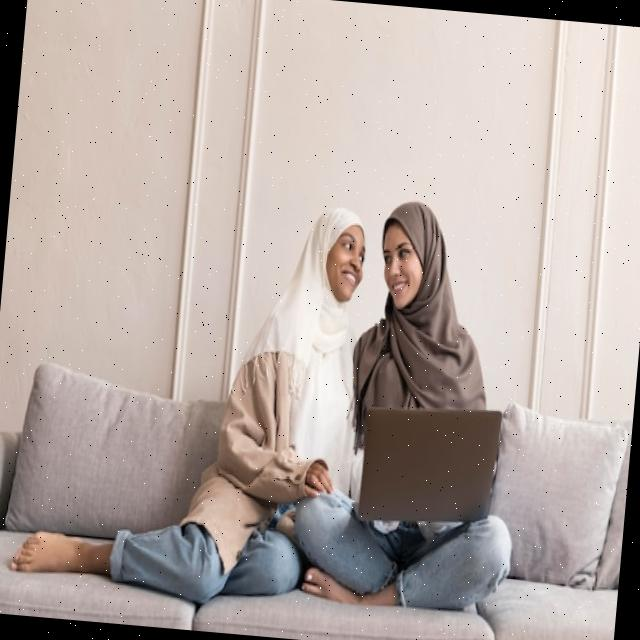Person: (5, 180, 369, 614), (289, 193, 541, 618)
